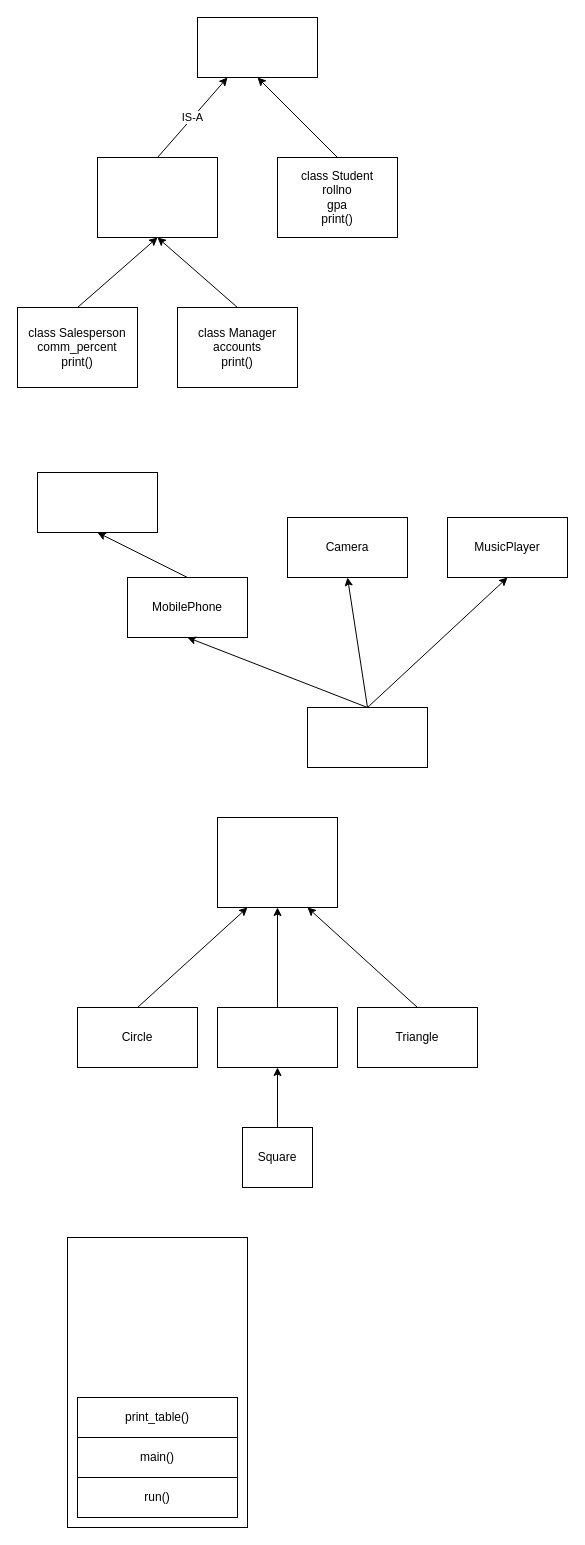
The diagram is 585 pixels wide and 1545 high, and some of its shapes have lost their labels. The box of each missing label's shape, as (x1, y1, x2, y2) in pixels:
class Employee id salary print(): (96, 156, 218, 238)
class Person name email print(): (196, 16, 318, 78)
GeometricShape paint() draw() find_area(): (216, 816, 338, 908)
Phone: (36, 472, 158, 532)
Rectangle: (216, 1006, 338, 1068)
SmartPhone: (306, 706, 428, 768)
